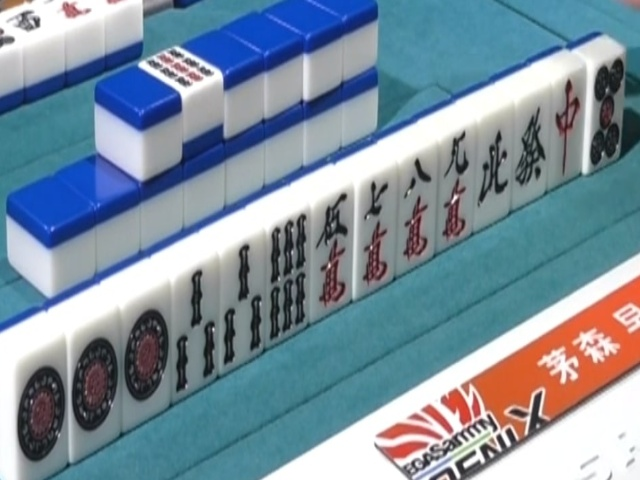1pin: (9, 345, 64, 472), (65, 322, 118, 450), (119, 296, 168, 412)
